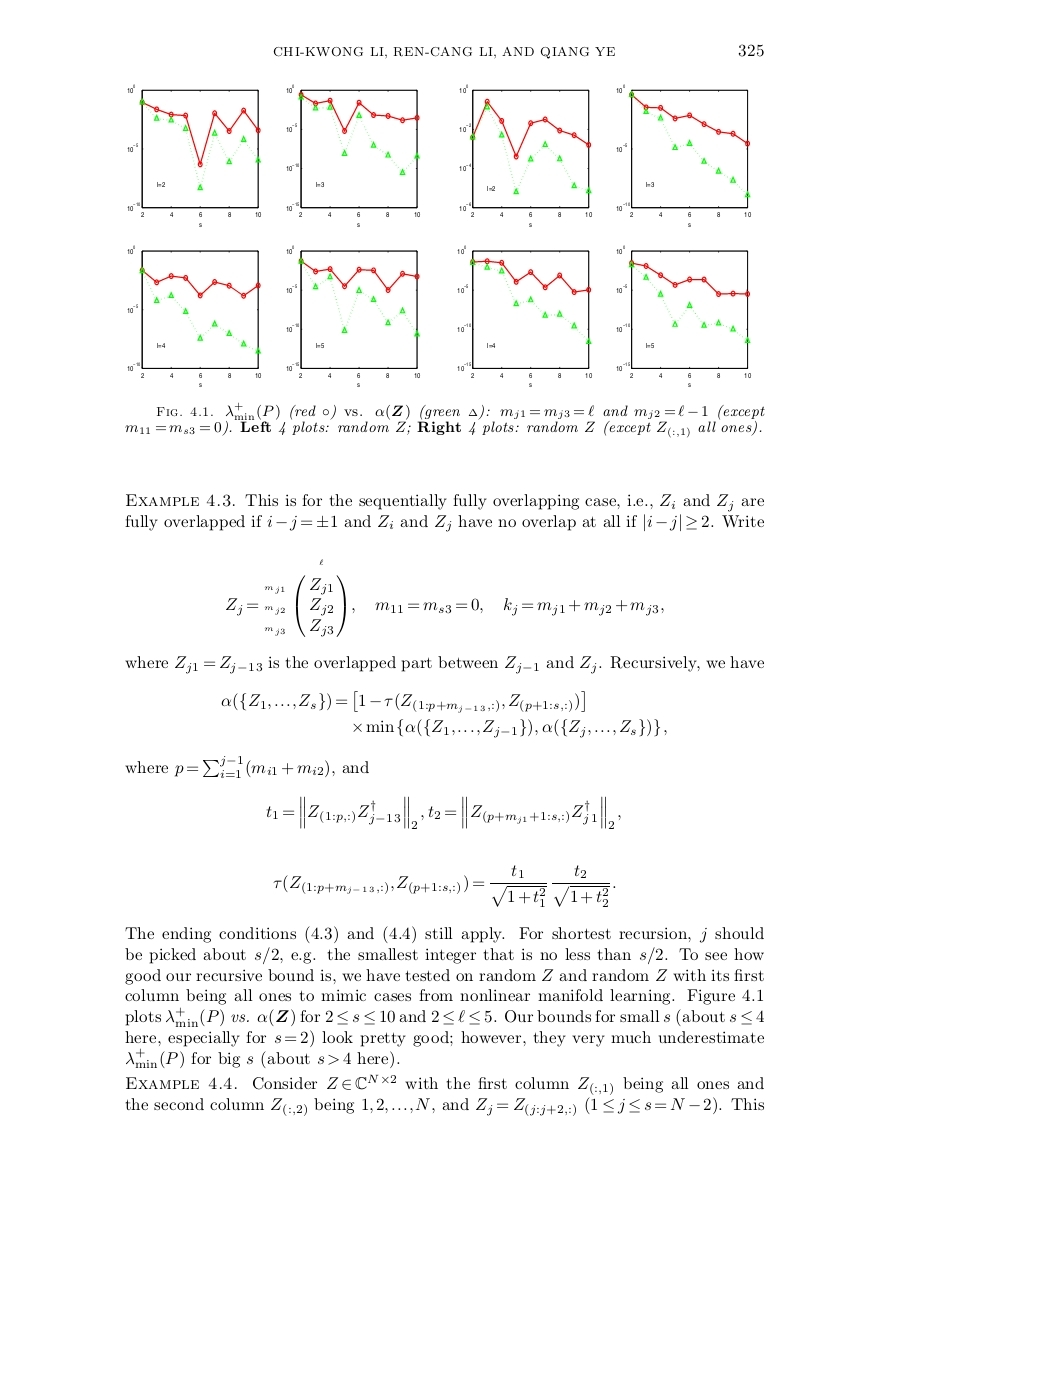figure: (127, 82, 261, 217), (286, 82, 420, 217), (457, 244, 592, 378), (616, 82, 750, 217), (127, 244, 261, 378), (286, 244, 420, 378), (616, 244, 750, 378), (459, 82, 592, 217)
formula: (226, 559, 663, 636), (273, 864, 615, 907), (266, 795, 620, 829), (221, 690, 584, 713), (353, 718, 666, 738)
